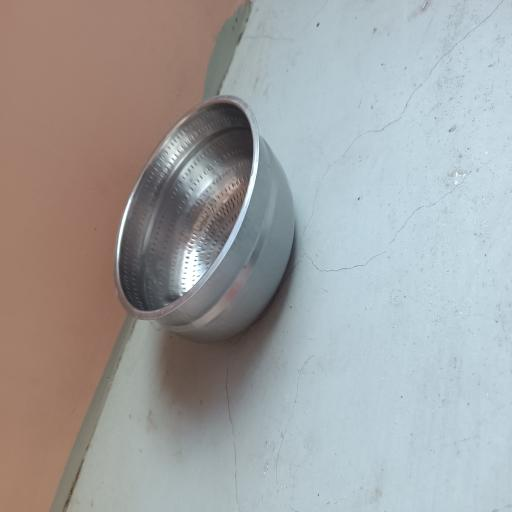vessel: (114, 96, 294, 342)
